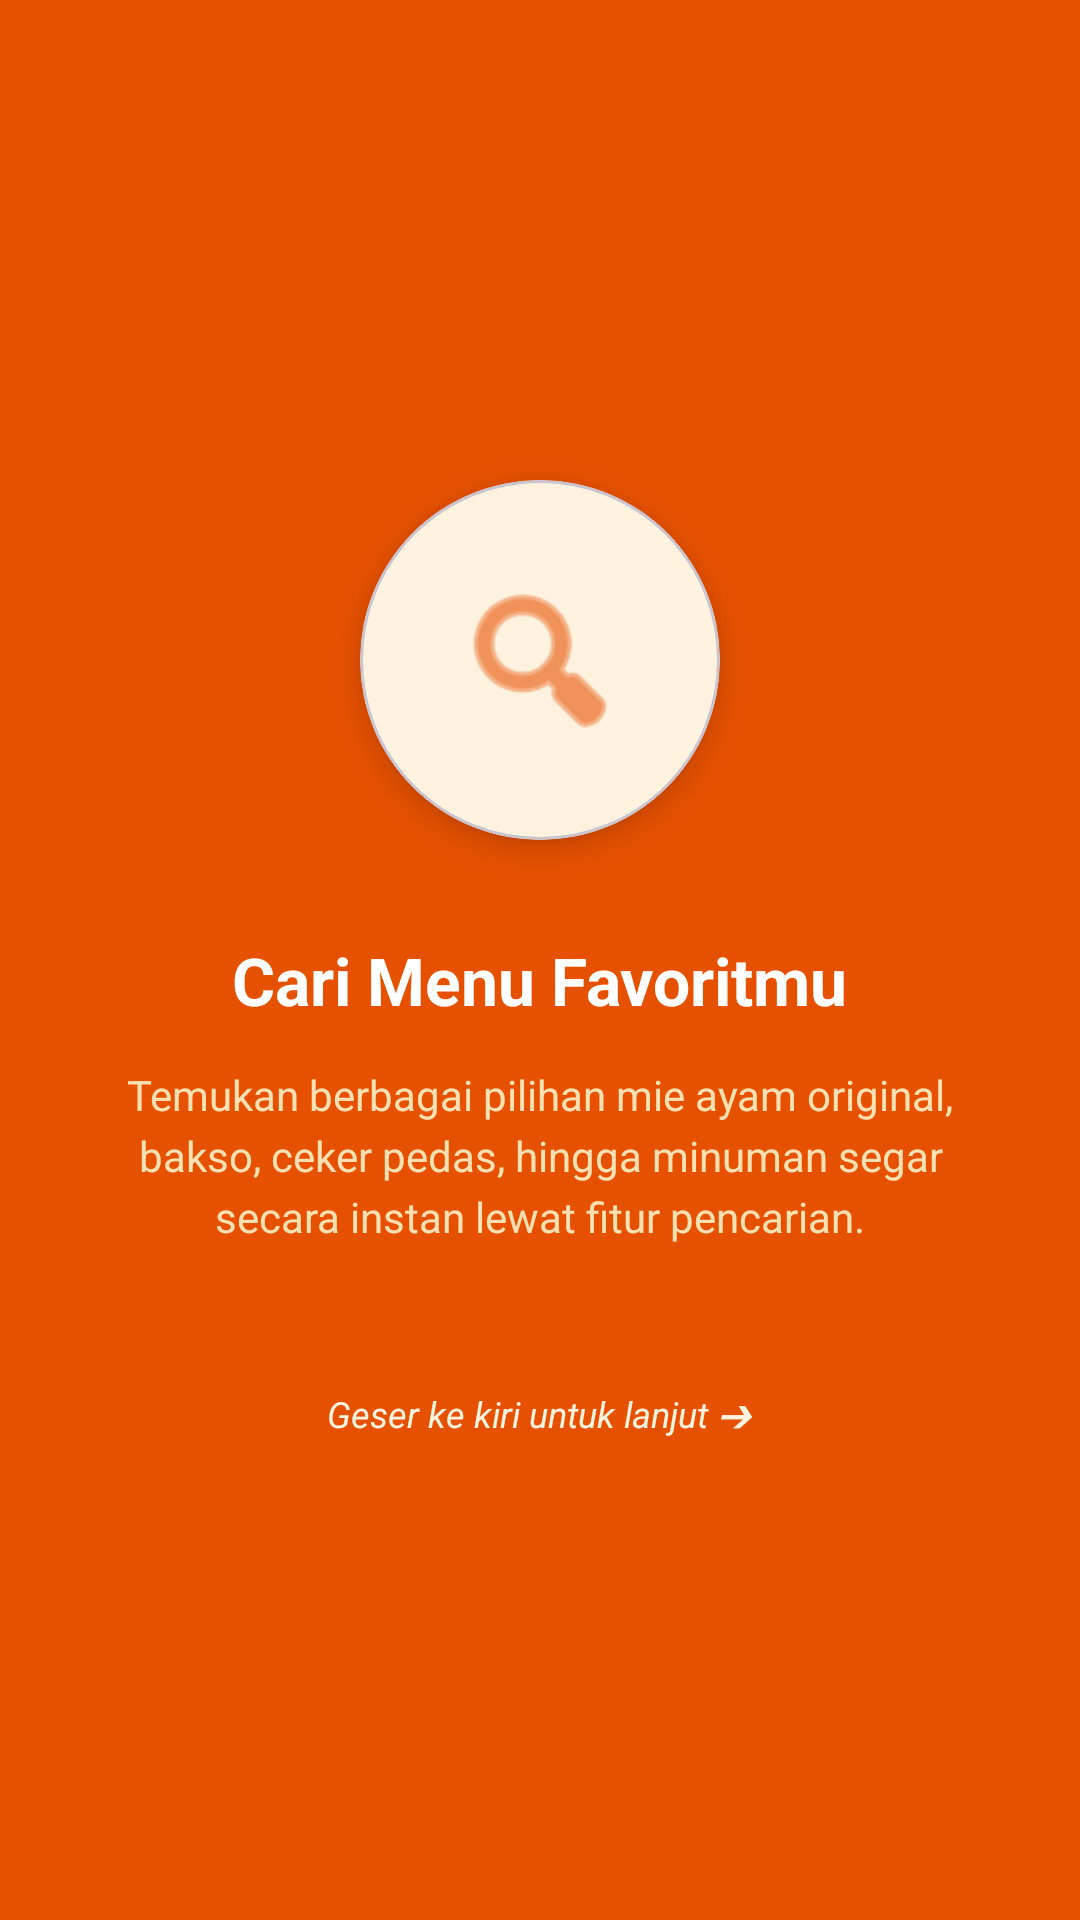

Screen size 1080px×1920px. Icon name, then its box in pixels as [x1,y1,x2,y2]:
Ikon Pencarian: [473,594,607,728]
